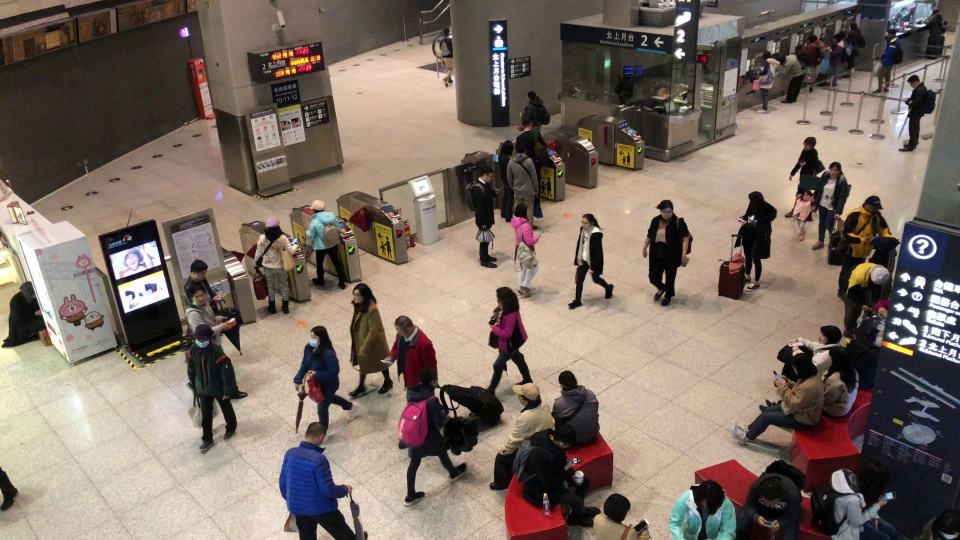person_head: (861, 459, 891, 496), (602, 493, 631, 523), (698, 477, 722, 511), (790, 352, 817, 378), (513, 383, 540, 408), (759, 477, 781, 507), (552, 424, 576, 450), (303, 420, 325, 447), (938, 512, 959, 540), (191, 323, 214, 348), (828, 346, 850, 372), (351, 281, 375, 304), (393, 314, 416, 337), (817, 324, 841, 345), (308, 324, 329, 347), (496, 286, 517, 307), (557, 369, 578, 390), (187, 283, 207, 305), (190, 259, 209, 280), (863, 194, 883, 213), (420, 367, 438, 387), (264, 216, 281, 236), (747, 190, 764, 209), (659, 199, 674, 219), (581, 213, 597, 230), (828, 161, 843, 179), (20, 281, 34, 299), (499, 139, 513, 157), (479, 165, 493, 183), (801, 136, 817, 151), (514, 202, 528, 219), (309, 199, 325, 213), (906, 74, 921, 88), (520, 116, 533, 131), (515, 140, 527, 154), (887, 27, 897, 41), (801, 190, 812, 201), (833, 32, 843, 44), (526, 91, 539, 100), (761, 49, 771, 60), (777, 54, 786, 65), (442, 26, 450, 37), (808, 34, 817, 43), (849, 21, 858, 30), (930, 7, 940, 14)
person_vbox: (278, 421, 368, 540), (510, 424, 601, 527), (402, 367, 467, 506), (730, 352, 824, 446), (809, 457, 909, 540), (292, 325, 359, 444), (183, 283, 248, 400), (758, 345, 860, 419), (488, 381, 556, 491), (186, 323, 238, 451), (836, 195, 895, 301), (737, 458, 806, 540), (347, 282, 394, 397), (641, 200, 690, 308), (485, 286, 533, 394), (382, 314, 439, 402), (567, 213, 615, 310), (732, 191, 777, 293), (252, 216, 298, 315), (668, 478, 736, 540), (303, 199, 347, 292), (550, 370, 600, 448), (464, 165, 500, 268), (811, 160, 851, 250), (782, 324, 843, 380), (783, 136, 825, 215), (897, 74, 937, 154), (510, 202, 542, 297), (506, 140, 539, 231), (1, 280, 45, 347), (592, 493, 650, 540), (515, 116, 546, 197), (180, 259, 223, 315), (870, 28, 905, 96), (775, 51, 813, 105), (756, 50, 780, 113), (802, 33, 826, 96), (518, 90, 551, 134), (914, 508, 958, 540), (843, 19, 866, 80), (497, 140, 514, 222), (791, 188, 815, 242), (825, 33, 848, 88), (436, 27, 453, 86), (922, 6, 948, 37)
